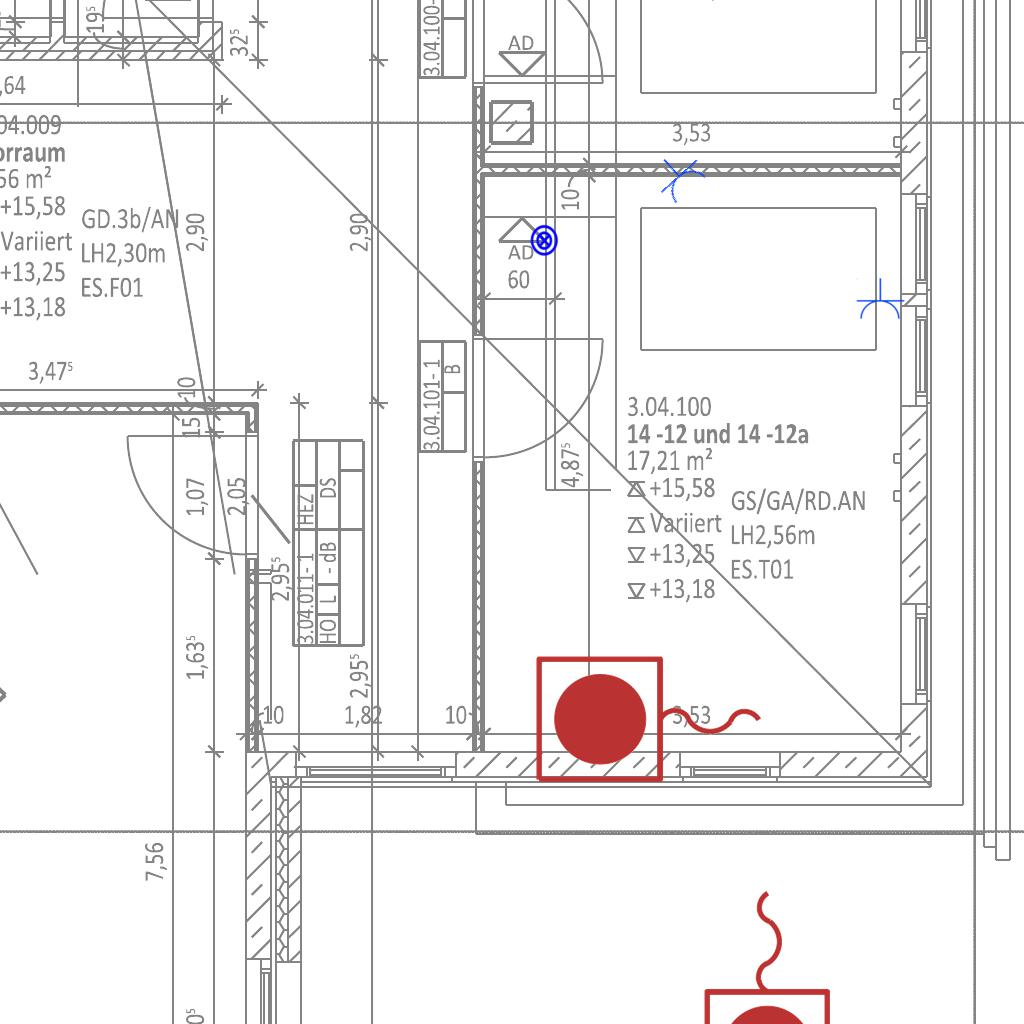Schukosteckdose_einfach: (645, 142, 711, 209), (855, 278, 905, 321)
Taster_beleuchtet: (528, 224, 561, 257)
Zugtaster: (528, 649, 772, 793), (697, 880, 841, 1024)
